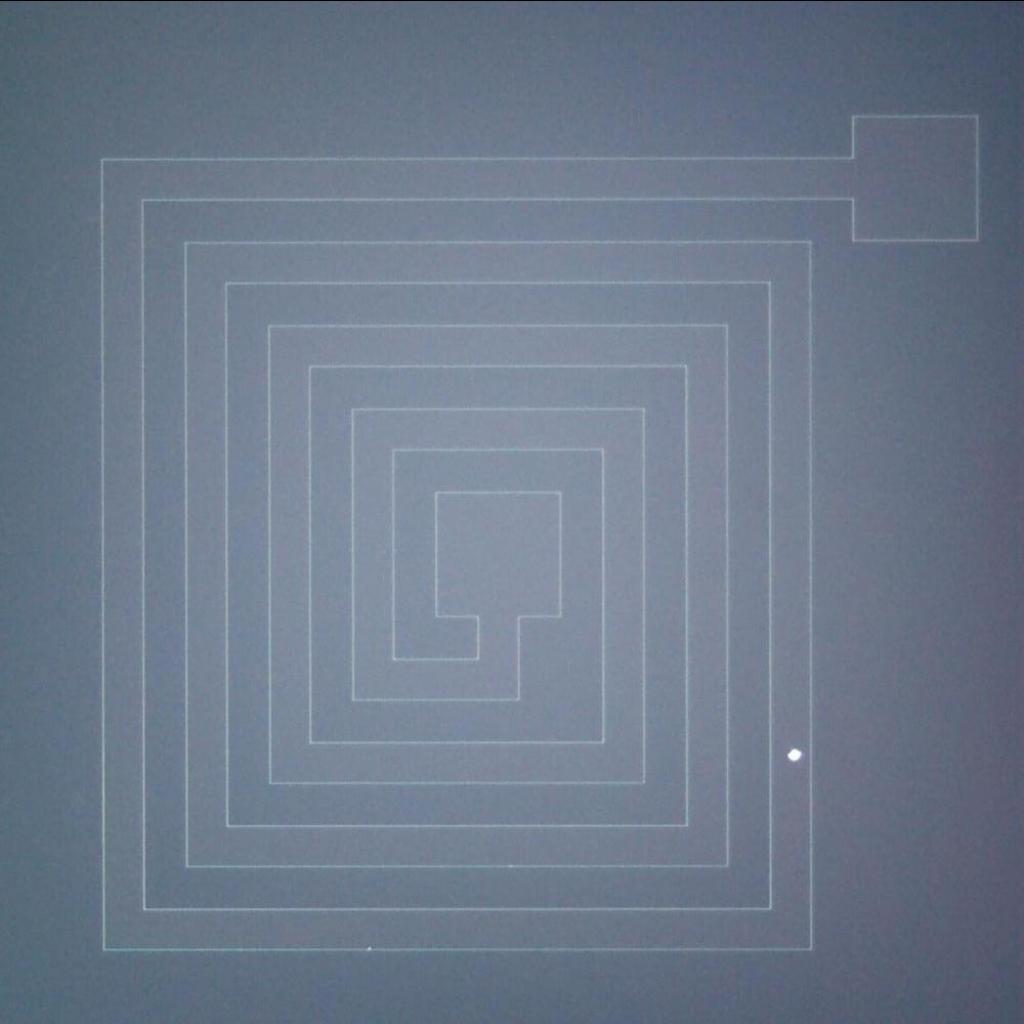spot: (780, 739, 812, 768)
